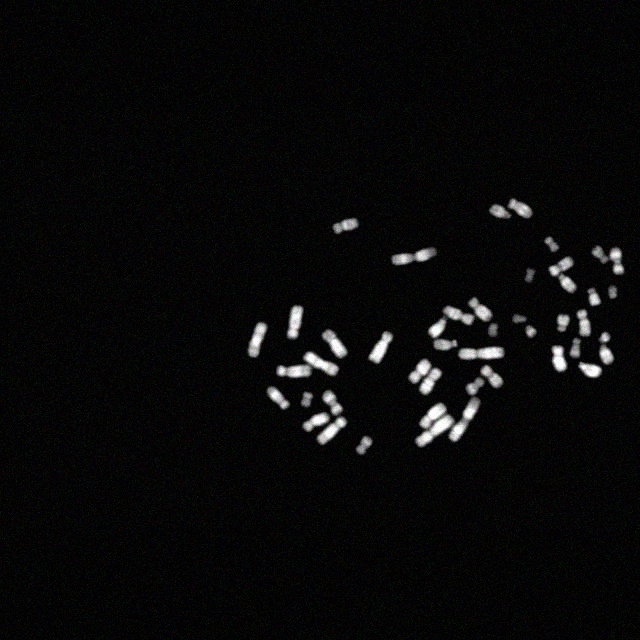chromosome: (450, 398, 480, 442), (416, 414, 454, 448), (368, 330, 394, 364), (392, 247, 438, 265), (318, 417, 347, 445), (304, 352, 338, 374), (322, 330, 348, 358), (419, 404, 447, 428), (247, 324, 267, 356), (468, 297, 492, 323), (408, 358, 432, 384), (442, 305, 473, 325), (460, 346, 504, 359), (420, 369, 442, 395), (481, 364, 504, 388), (303, 412, 329, 432), (323, 390, 343, 416), (288, 306, 304, 338), (267, 386, 289, 409), (276, 365, 312, 379), (508, 198, 532, 218), (549, 256, 573, 276), (550, 346, 566, 372), (558, 272, 576, 294), (334, 218, 358, 234), (578, 362, 602, 378), (610, 248, 624, 274), (428, 318, 446, 338), (578, 309, 590, 336), (466, 378, 484, 396), (356, 436, 372, 456), (489, 205, 511, 219), (592, 246, 608, 264), (598, 346, 614, 364), (556, 314, 570, 332), (434, 338, 456, 349), (544, 238, 560, 252), (588, 288, 600, 306), (570, 338, 580, 358), (524, 269, 536, 283), (301, 392, 313, 406), (512, 314, 528, 324), (525, 326, 537, 338), (488, 324, 498, 338), (608, 286, 618, 298), (598, 332, 610, 342)
